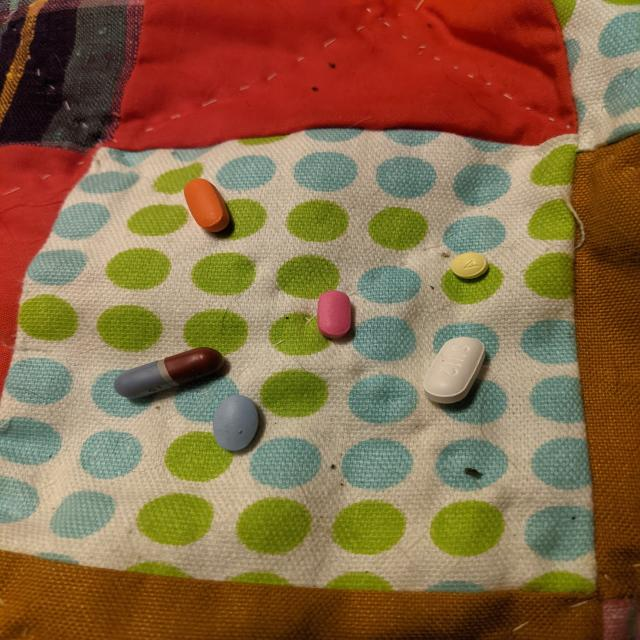non-organic waste: (112, 346, 225, 400), (422, 336, 486, 404), (212, 393, 260, 452), (183, 178, 230, 233), (316, 290, 352, 338), (450, 251, 490, 280)
